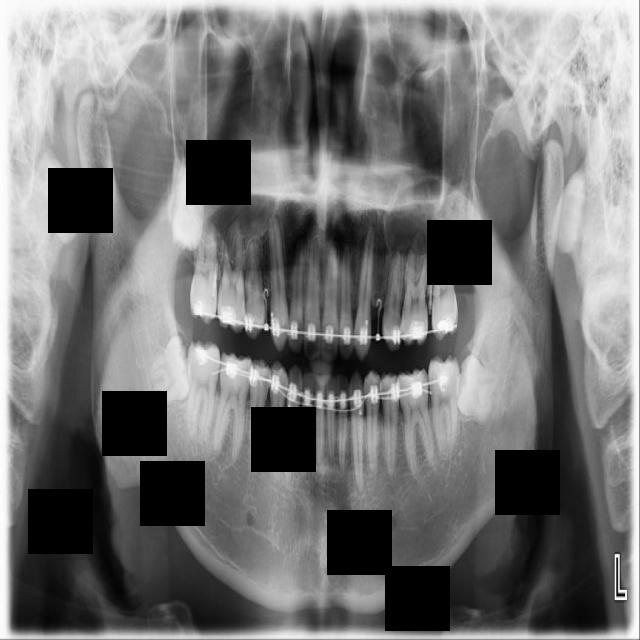3M ESPE Implant: (169, 158, 210, 252)
73: (620, 613, 631, 622)
BioHorizons Implant: (432, 236, 458, 341)
Biomet 3i Implant: (449, 353, 504, 424)
Blue Sky Bio Implant: (426, 354, 460, 456)
Caries: (189, 222, 219, 324)
Implant: (185, 340, 221, 441)
Keystone Dental Implant: (138, 333, 199, 408)
